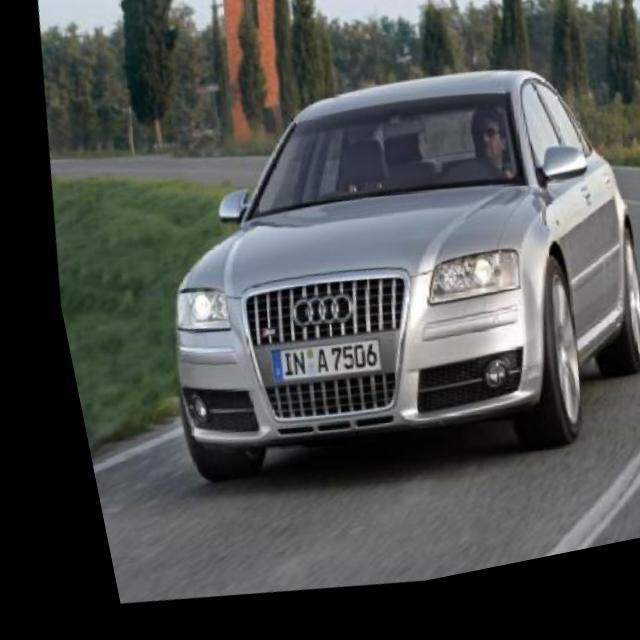license_plate: (252, 338, 370, 404)
